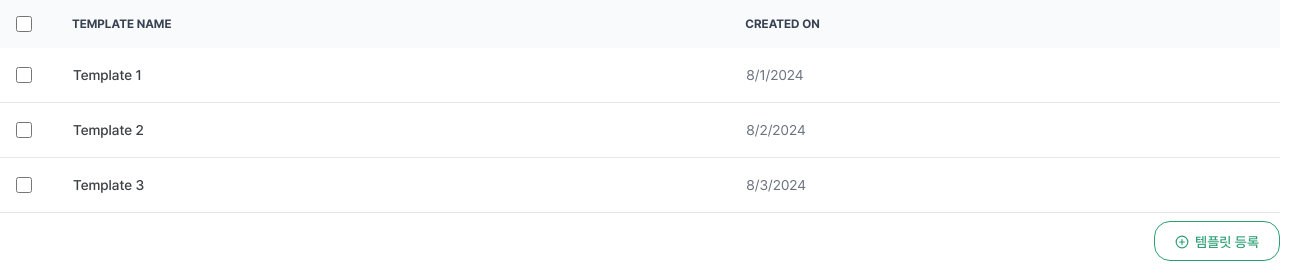
Table 컴포넌트 단위 테스트 › 템플릿 선택 시 삭제 버튼이 보여야 한다.
The image size is (1292, 278).
Click the checkbox next to "Template 1". click: (24, 75)
box: left=16, top=67, right=32, bottom=83
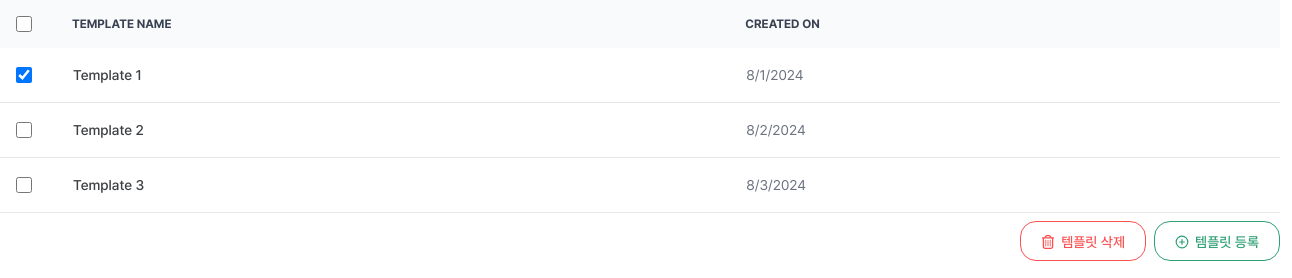
Result: the text "템플릿 삭제" is shown at left=1061, top=232, right=1125, bottom=252
